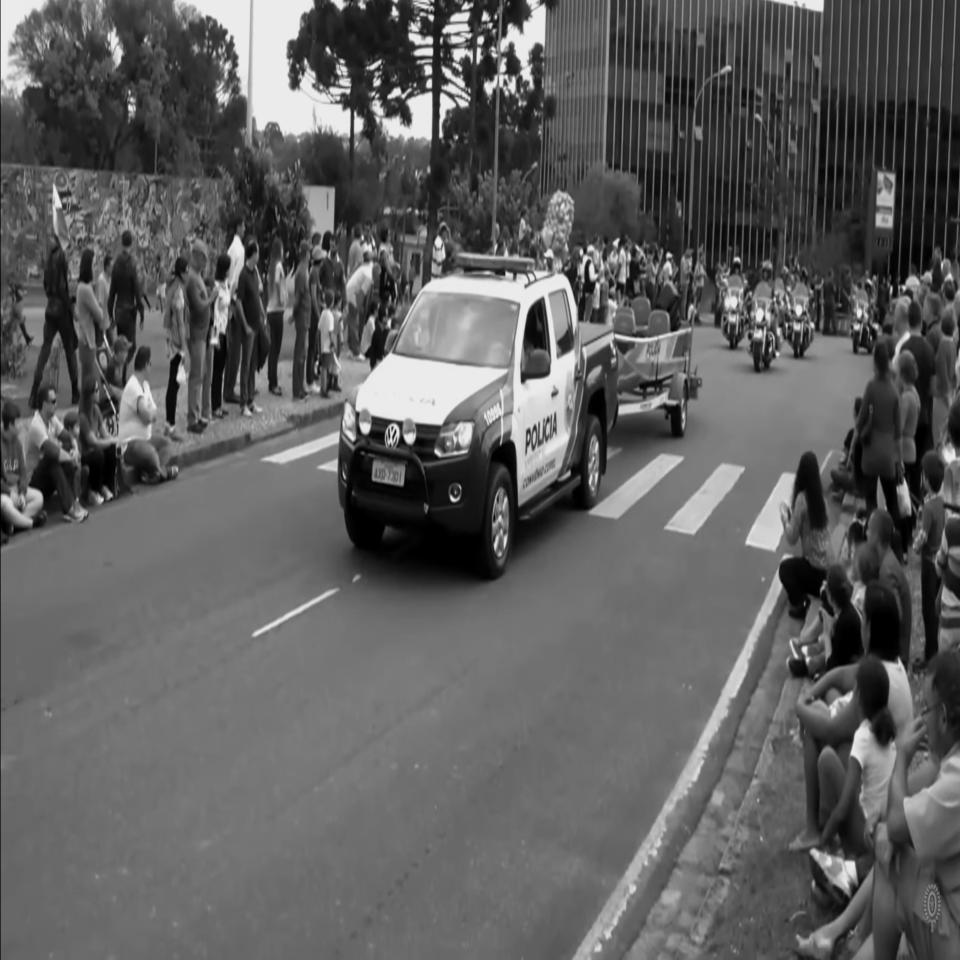viatura: (336, 249, 622, 579)
